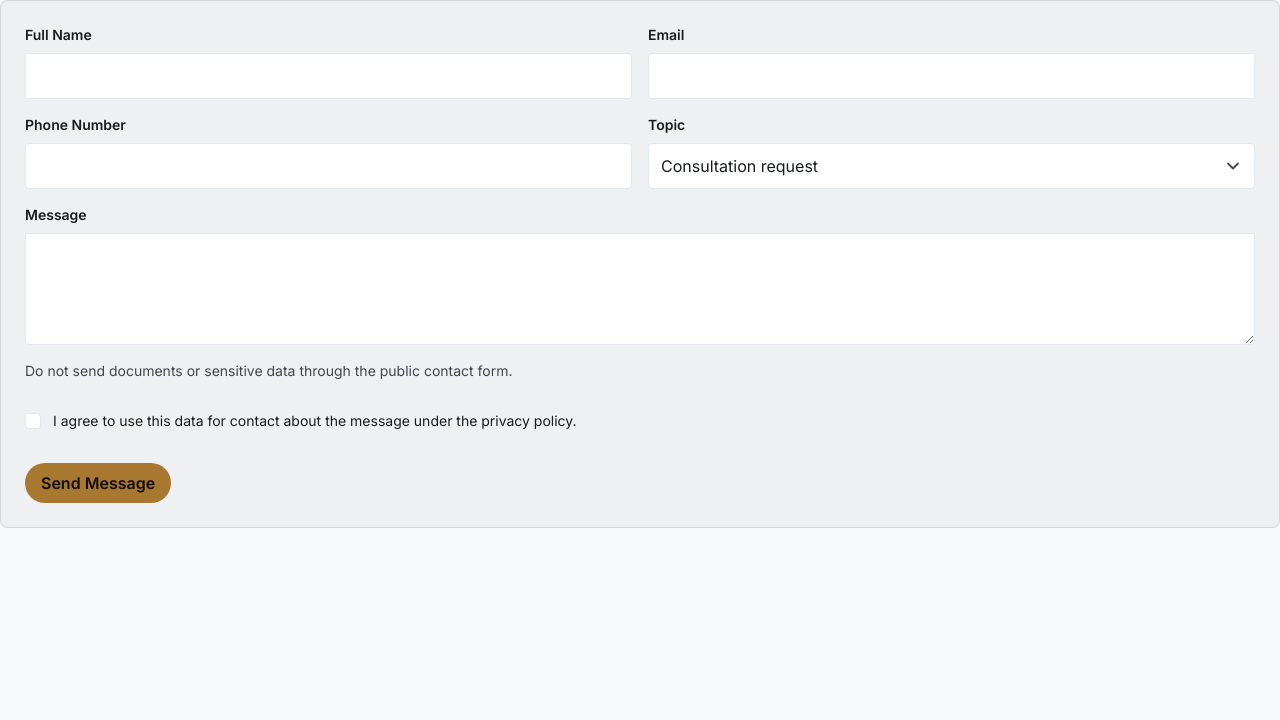
it: public contact form recovery › does not send a duplicate request while the first request is pending
Expected: the button "Send Message" is enabled, [25,463,171,503]
In the field labelled "Full Name": (328, 76) [25,53,632,99], type "Synthetic Contact"
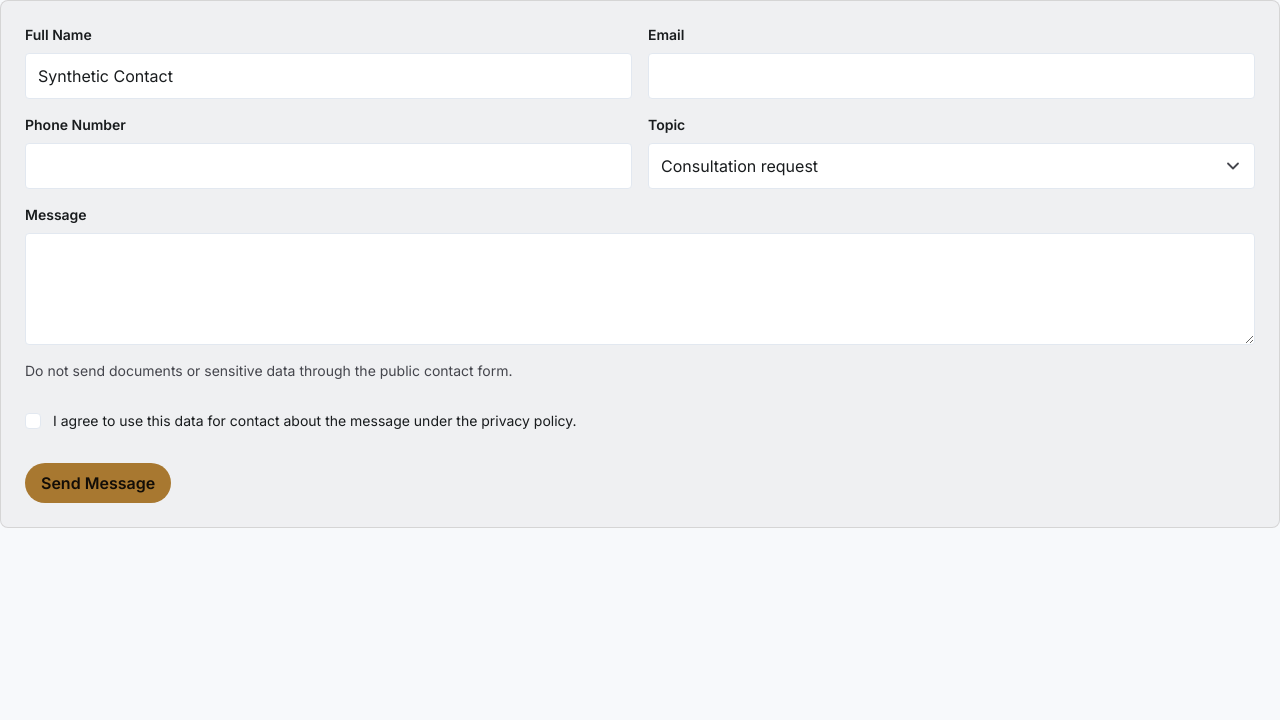
In the field labelled "Email": (952, 76) [648,53,1255,99], type "synthetic@example.test"
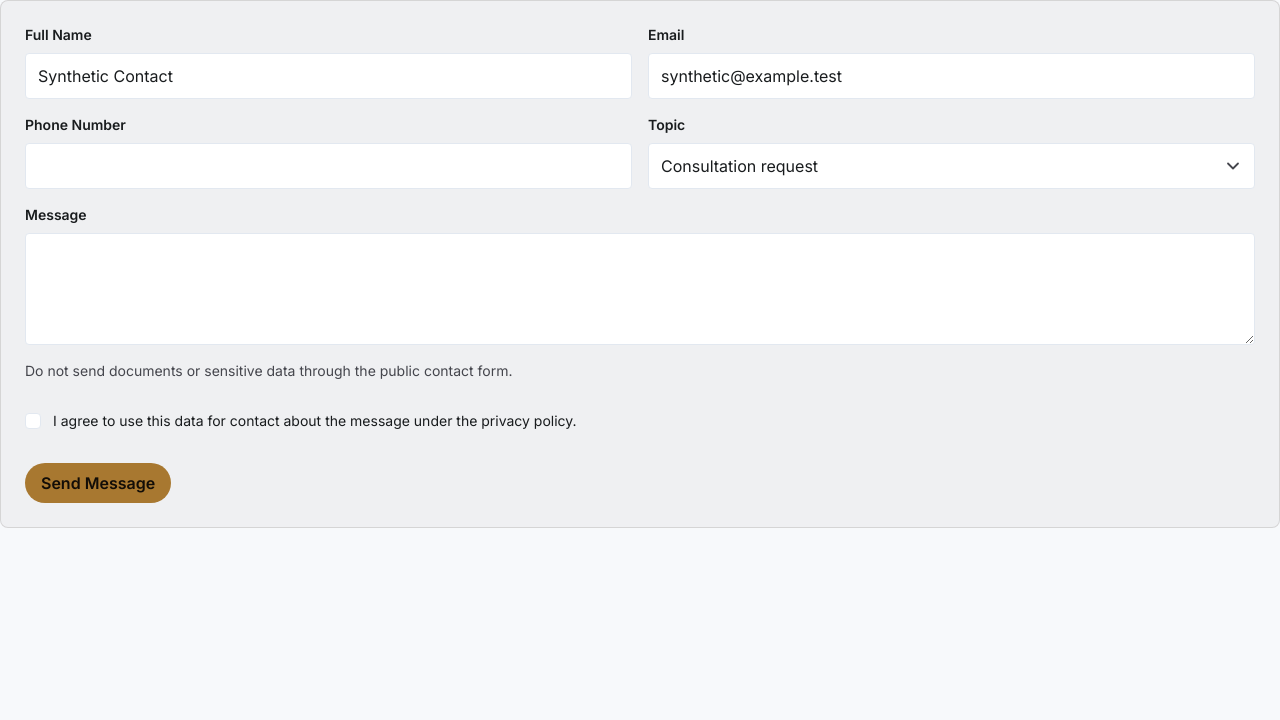
In the text box labelled "Message": (640, 289) [25,233,1255,345], type "Synthetic message retained after a network failure."
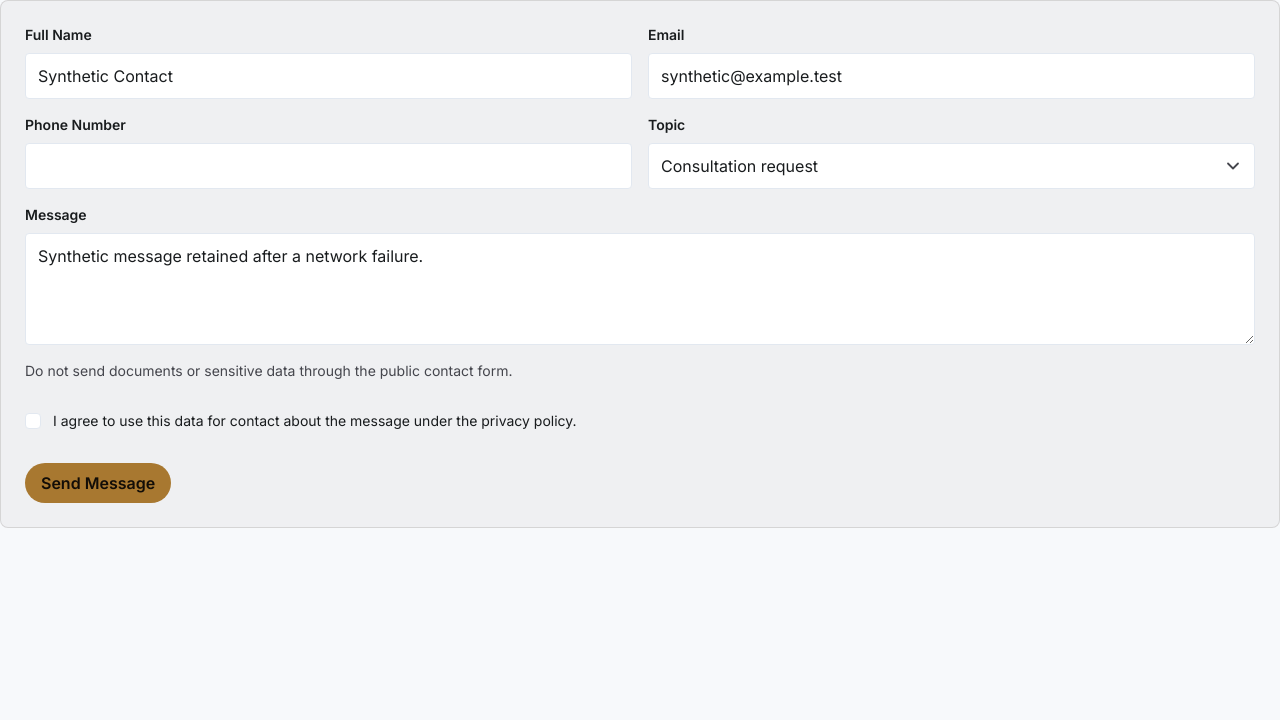
Click the checkbox: (33, 421) [25,413,41,429]
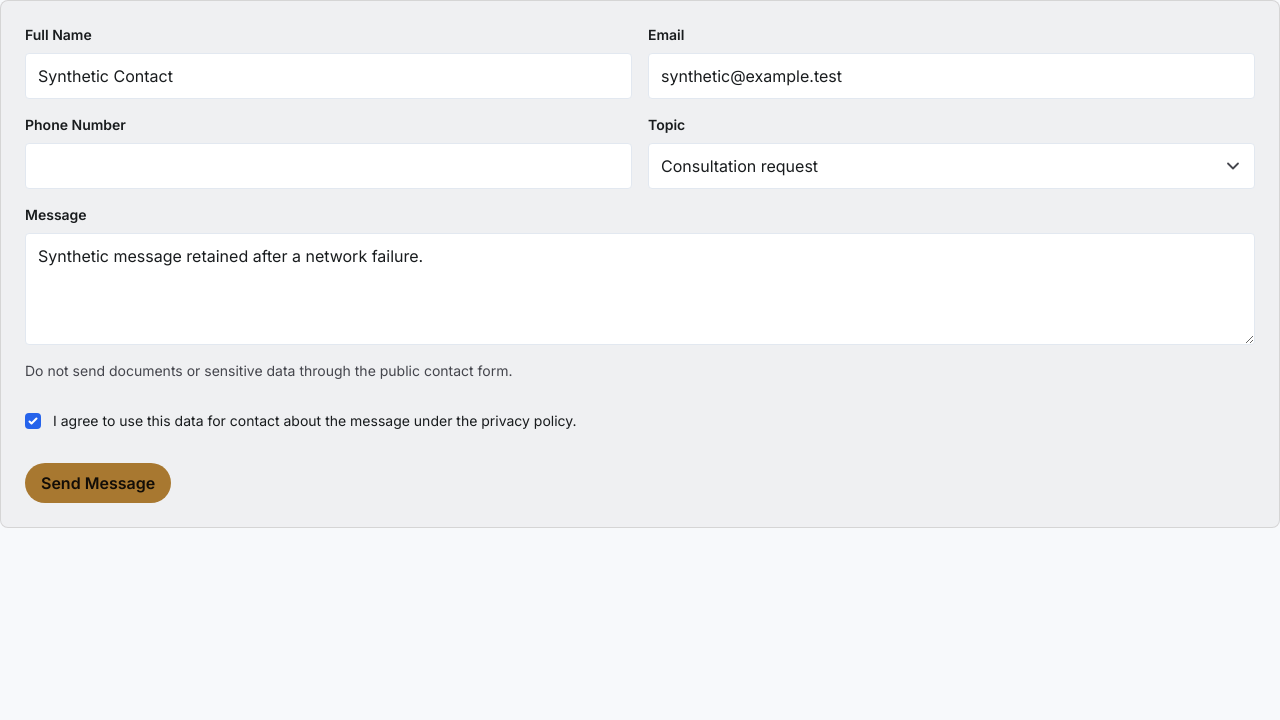
Submit the form with test id "contact-form"
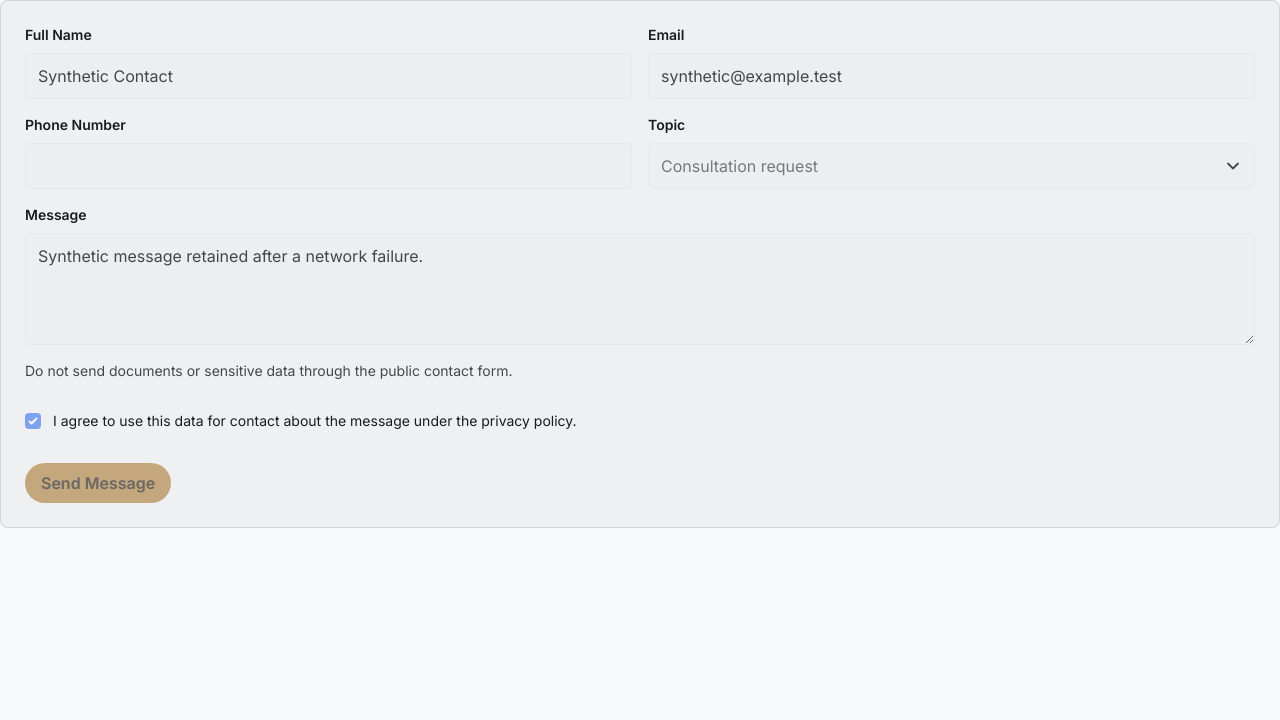
Submit the form with test id "contact-form"
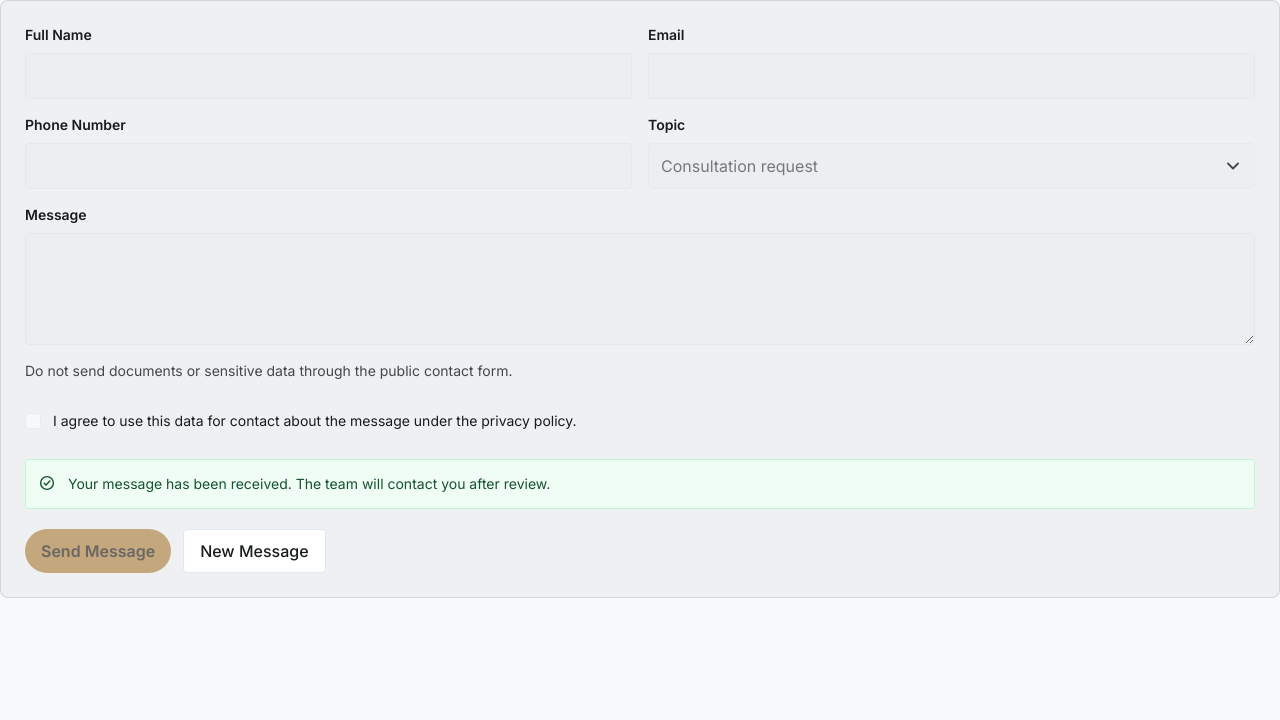
Expected: the message "Your message has been received. The team will contact you after review." is shown, [25,459,1255,509]
